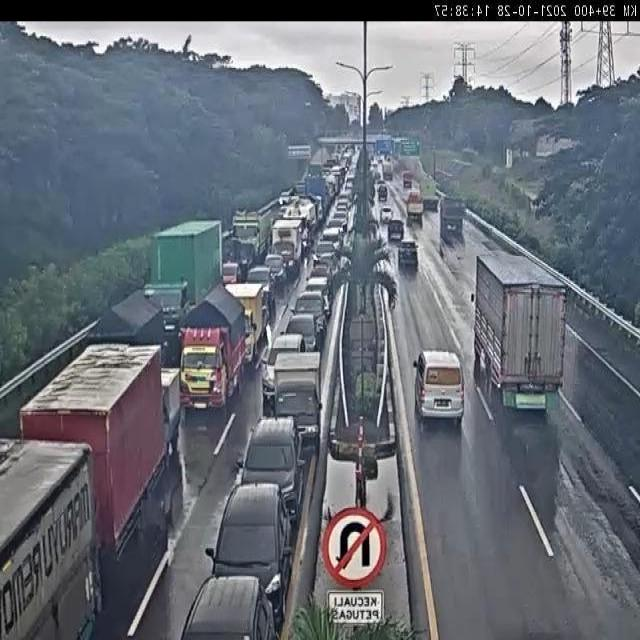Car: (204, 484, 298, 590), (178, 574, 277, 640), (236, 416, 302, 494), (247, 268, 274, 314), (397, 237, 419, 272), (388, 218, 405, 242), (380, 206, 396, 223), (377, 186, 389, 202)
Truck: (18, 342, 169, 556), (0, 440, 101, 640), (476, 251, 565, 419), (178, 285, 248, 413), (153, 218, 223, 303), (270, 350, 323, 448), (228, 206, 273, 263), (274, 218, 302, 266), (440, 194, 466, 238), (404, 190, 426, 221), (421, 174, 439, 210)
Van: (411, 347, 465, 425)
